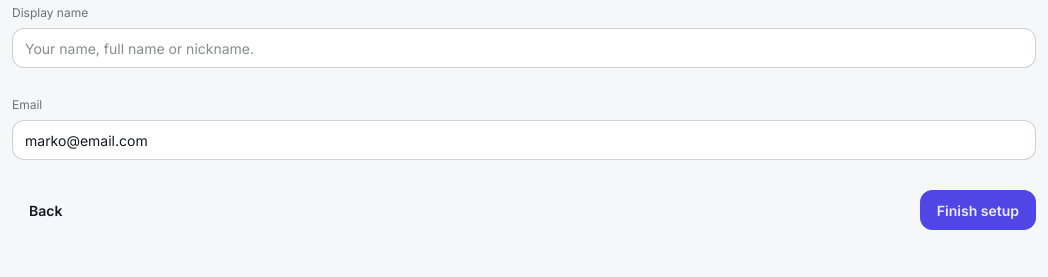
AC2: an empty field blocks the submit › reports the name field when it is empty and leaves the email alone
Click the button "Finish setup" at x=978, y=210, box left=920, top=190, right=1036, bottom=230
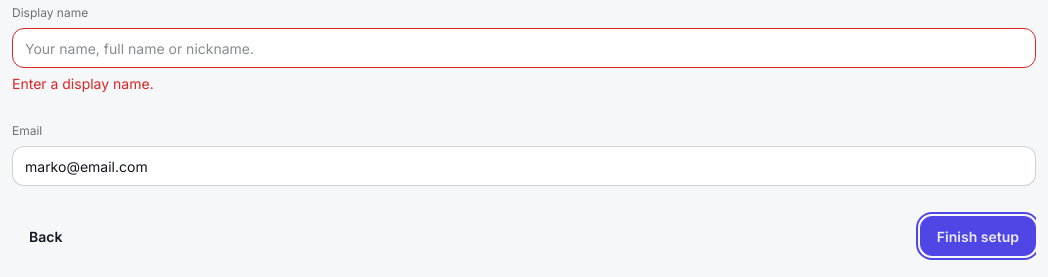
Now the text "Enter a display name." is shown, box left=12, top=75, right=154, bottom=92
